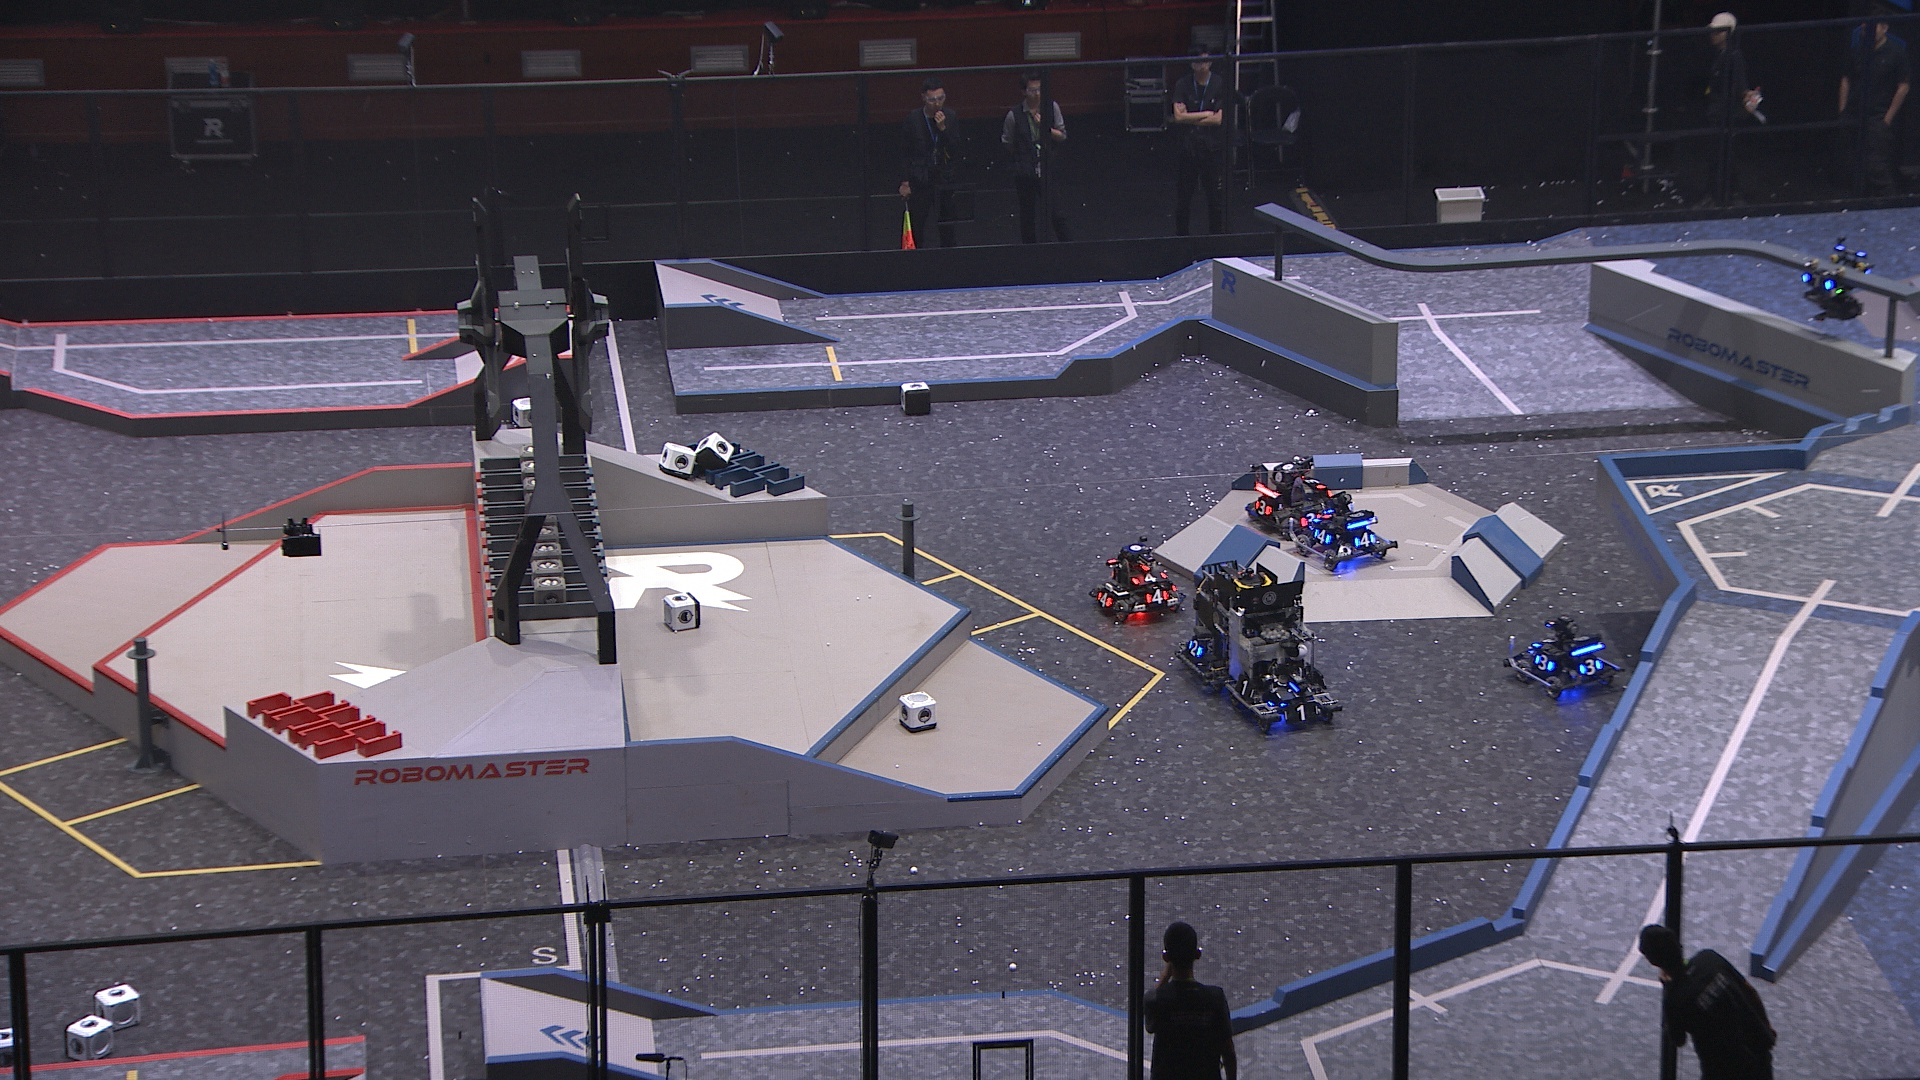armor: (1799, 268, 1833, 291), (1280, 703, 1321, 723), (1276, 684, 1313, 700), (1133, 570, 1166, 585), (1145, 585, 1171, 604), (1302, 472, 1324, 493), (1237, 675, 1254, 702), (1092, 589, 1112, 611), (1311, 529, 1333, 547), (1352, 531, 1377, 547), (1534, 654, 1555, 673), (1299, 513, 1325, 527), (1253, 498, 1273, 517), (1317, 505, 1338, 522), (1580, 659, 1602, 675), (1188, 638, 1204, 659), (1534, 636, 1553, 651)
car: (1218, 568, 1340, 733), (1172, 562, 1276, 688), (1506, 611, 1621, 700), (1087, 537, 1188, 622), (1245, 454, 1337, 547), (1296, 493, 1394, 571)
watcher: (1797, 240, 1874, 323)
